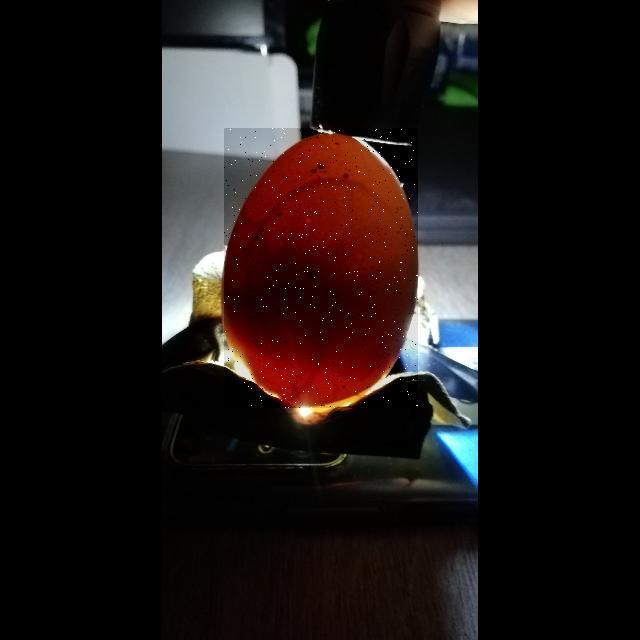Fertile: (224, 128, 418, 408)
